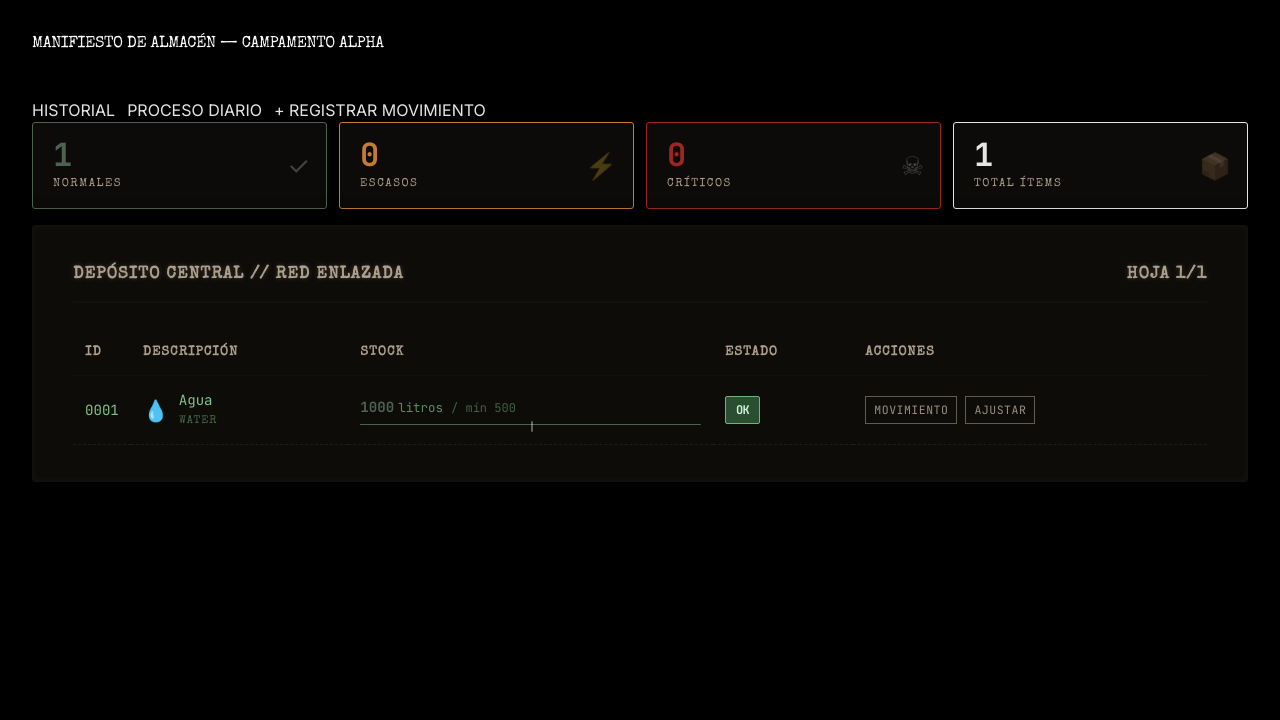
Test: Admin → Resources › adjust stock min (regression: resource_id from row, NUMERIC) › opens the AJUSTAR STOCK MÍNIMO modal from the per-row AJUSTAR button
This screenshot has width=1280, height=720.
Click the button "AJUSTAR" at x=1000, y=410, box [965,396,1035,424]
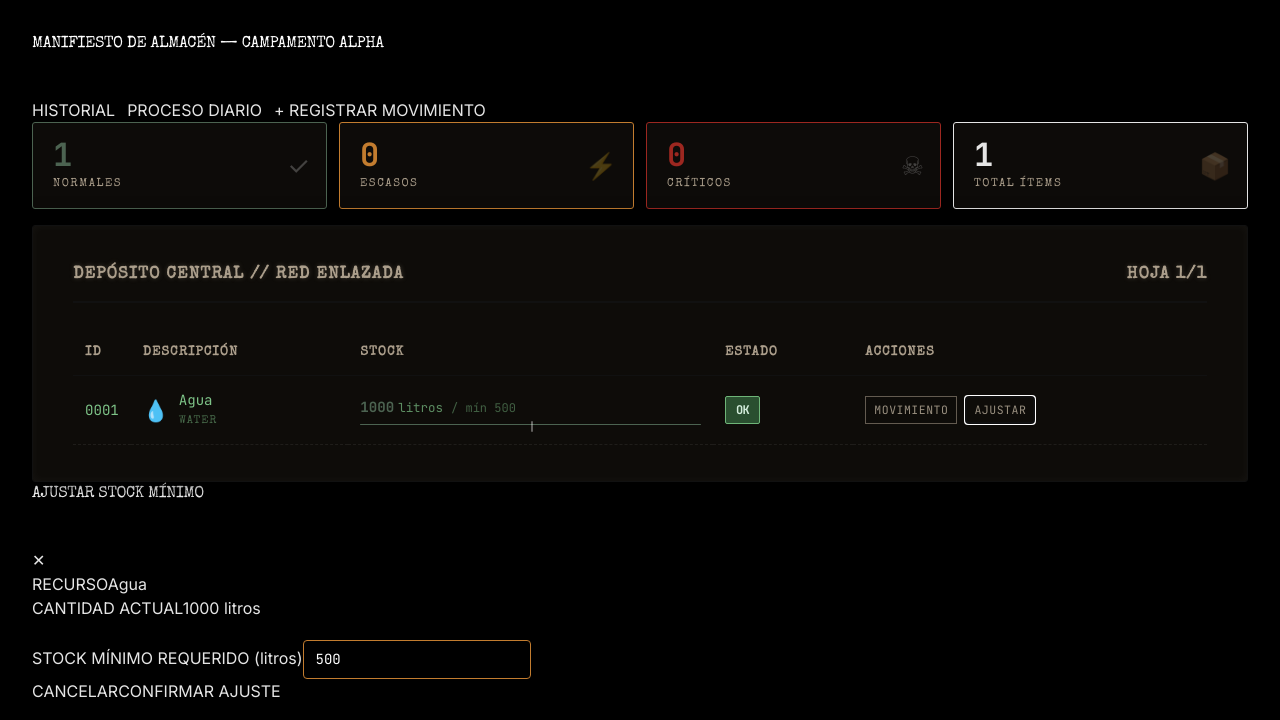
Now the heading "AJUSTAR STOCK MÍNIMO" is shown, box [32,482,1248,520]
